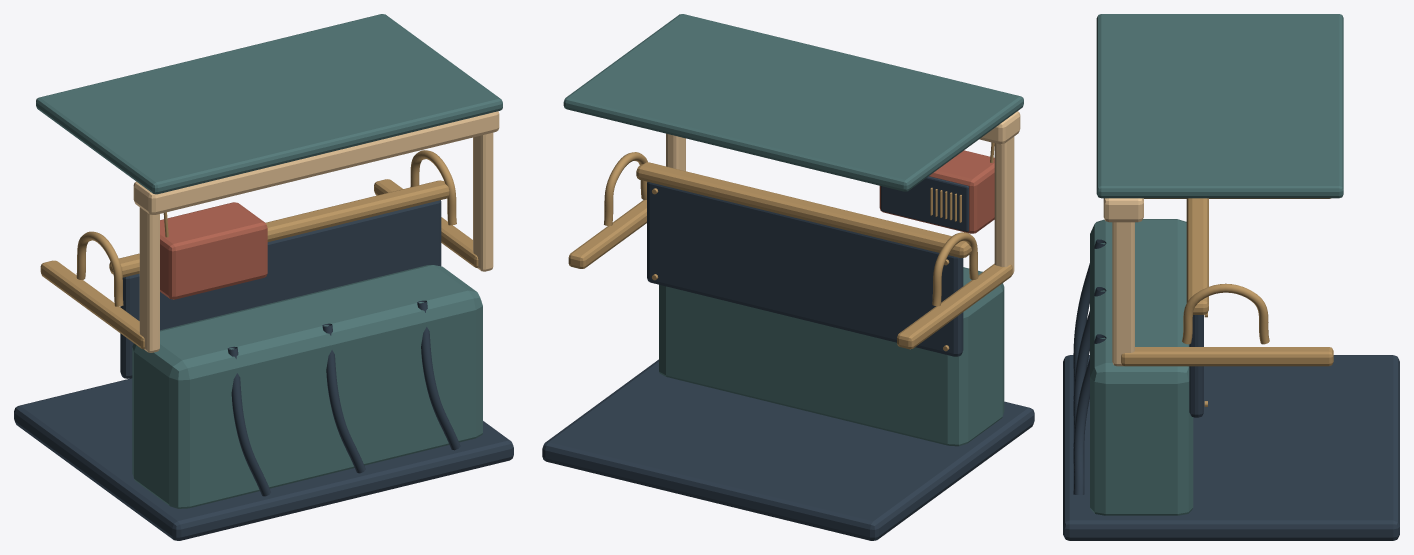
The model's file is control-room.glb.
The picture shows the model from 3 angles, left to right: view 1: azimuth 30°, elevation 25°; view 2: azimuth 150°, elevation 25°; view 3: azimuth 270°, elevation 25°; orthographic projection. The views are drawn at different scales.
Parts seen in each view (by area): view 1: Console_plinth, Roof_lining, Cabin_floor, Console_instrument_face, Radio_receiver, Window_brow, Console_top_rail, Window_pillar, Window_pillar.001, Side_sill, Cable_loom.001, Cable_loom (+4 smaller); view 2: Roof_lining, Cabin_floor, Console_plinth, Console_instrument_face, Console_top_rail, Radio_face, Radio_receiver, Side_sill, Window_pillar, Side_sill.001, Safety_grab, Safety_grab.001 (+2 smaller); view 3: Roof_lining, Cabin_floor, Console_plinth, Side_sill.001, Window_pillar.001, Console_top_rail, Safety_grab.001, Cable_loom.002, Console_instrument_face, Window_brow, Cable_loom, Cable_loom.001.
Boxes of the visible parts, x1,y1,x2,y2 form: Console_plinth: (132, 265, 482, 508); Roof_lining: (36, 14, 502, 194); Cabin_floor: (14, 378, 513, 540); Console_instrument_face: (120, 200, 441, 378); Radio_receiver: (160, 202, 267, 299); Window_brow: (133, 111, 499, 214); Console_top_rail: (109, 180, 449, 277); Window_pillar: (139, 207, 159, 352); Window_pillar.001: (473, 132, 493, 271); Side_sill: (40, 260, 144, 349); Cable_loom.001: (322, 323, 365, 473); Cable_loom: (227, 346, 270, 496); Roof_lining: (563, 14, 1023, 191); Cabin_floor: (542, 359, 1034, 540); Console_plinth: (659, 267, 1004, 446); Console_instrument_face: (647, 181, 963, 356); Console_top_rail: (636, 162, 971, 257); Radio_face: (881, 176, 968, 231); Radio_receiver: (879, 150, 994, 233); Side_sill: (897, 263, 1012, 349); Window_pillar: (994, 137, 1014, 274); Side_sill.001: (568, 200, 646, 268); Safety_grab: (932, 232, 978, 306); Safety_grab.001: (604, 152, 647, 225); Roof_lining: (1096, 14, 1343, 198); Cabin_floor: (1063, 355, 1399, 540); Console_plinth: (1090, 219, 1193, 515); Side_sill.001: (1121, 347, 1333, 366); Window_pillar.001: (1112, 222, 1134, 366); Console_top_rail: (1186, 198, 1208, 314); Safety_grab.001: (1182, 283, 1269, 344); Cable_loom.002: (1073, 334, 1106, 494); Console_instrument_face: (1189, 315, 1203, 417); Window_brow: (1103, 198, 1143, 222); Cable_loom: (1073, 239, 1106, 399); Cable_loom.001: (1073, 287, 1106, 446).
Bounding box in the file's own units: 1.85 × 1.76 × 1.5.
